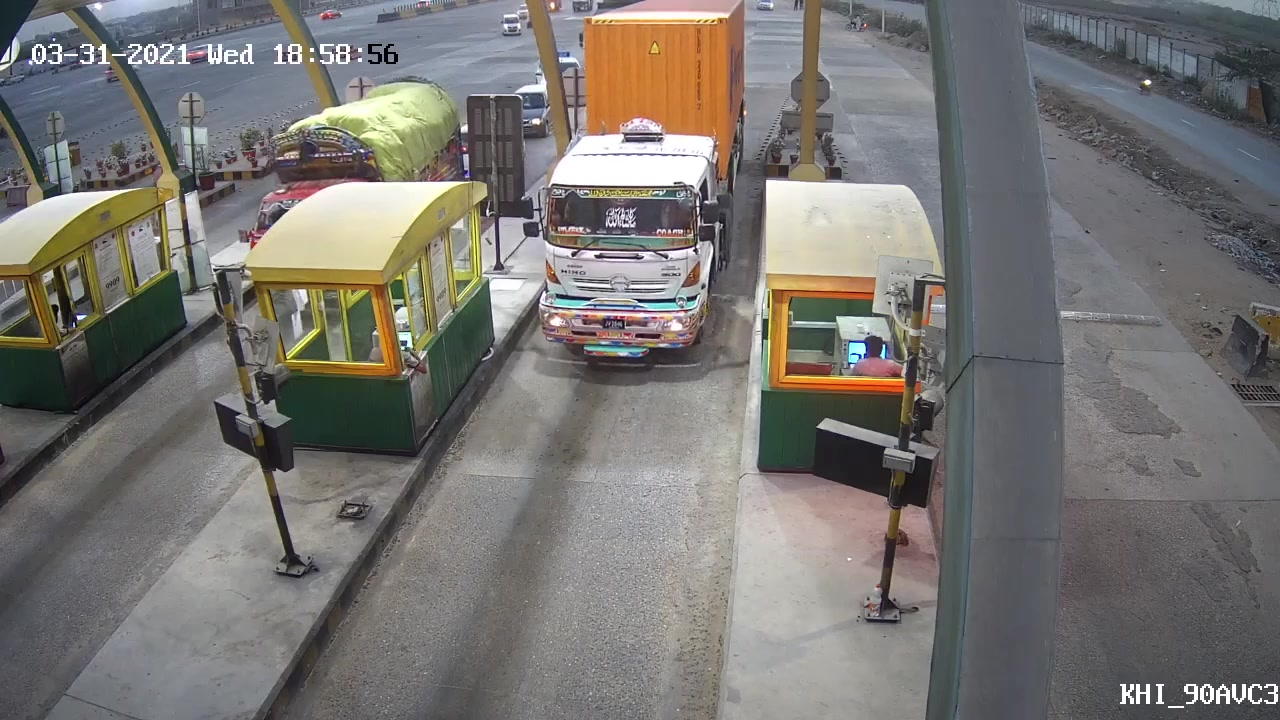F6: (520, 1, 755, 380)
